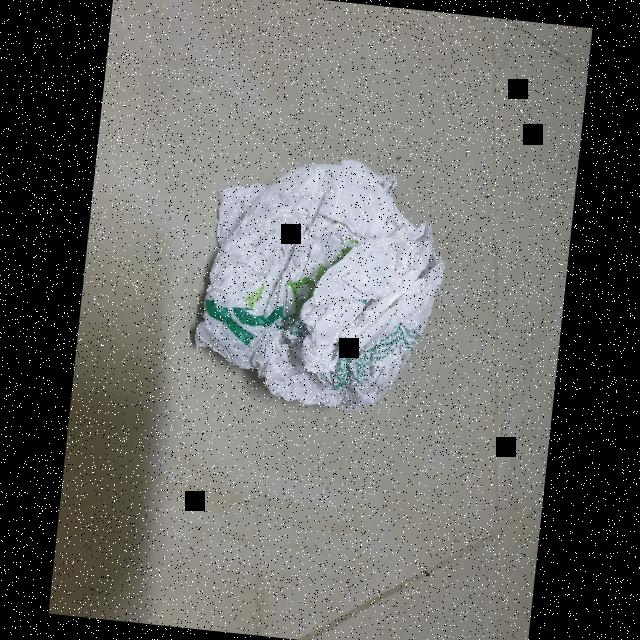plastic_bag: (178, 137, 462, 423)
